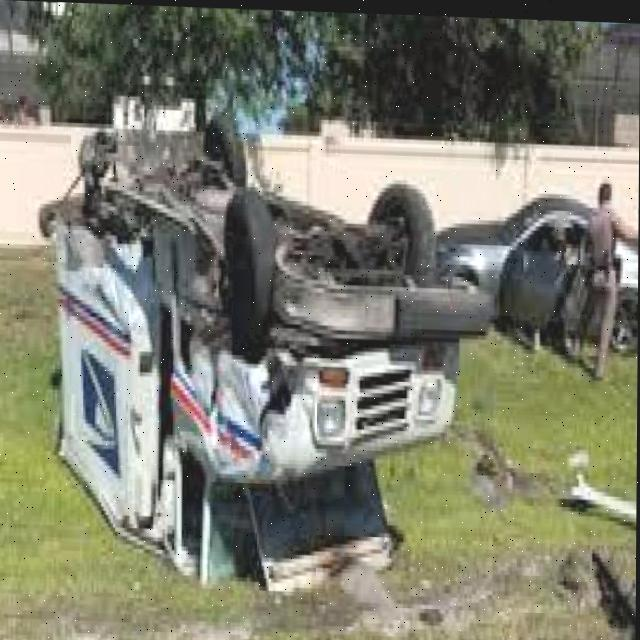multiple_accident: (20, 82, 640, 605)
